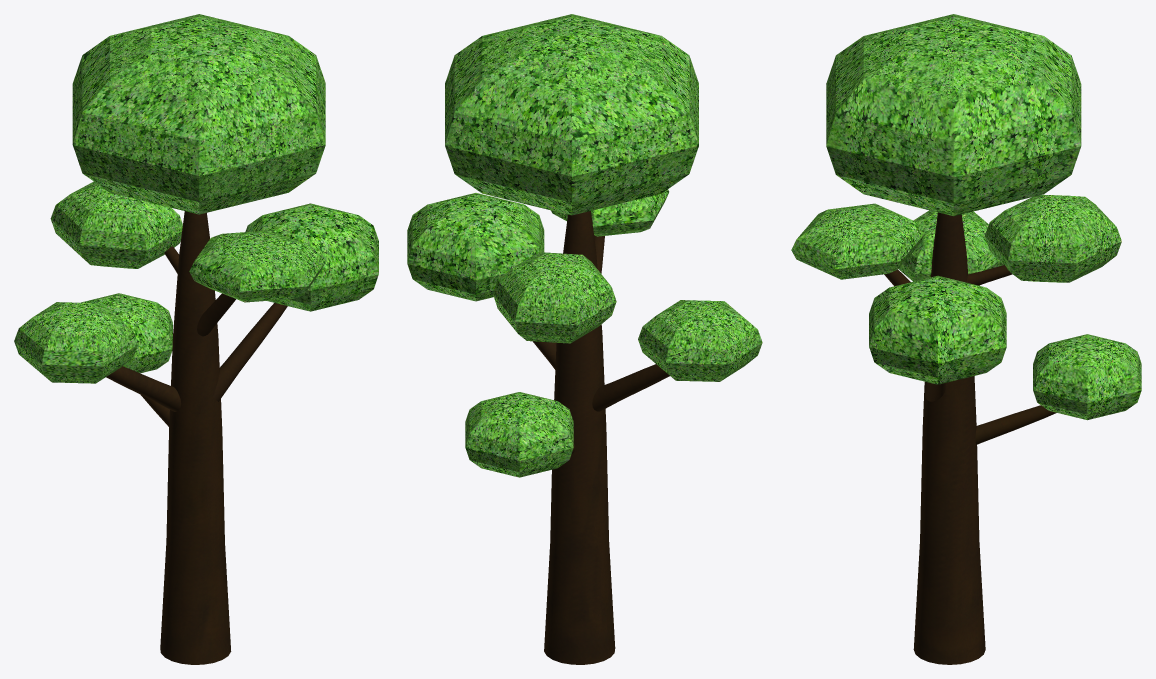
File: arbol.obj
3 views of the same model, side by side, from view 1: azimuth 30°, elevation 25°; view 2: azimuth 150°, elevation 25°; view 3: azimuth 270°, elevation 25° (orthographic).
Visible parts, largest first — view 1: arbol:pCylinder7; view 2: arbol:pCylinder7; view 3: arbol:pCylinder7.
Boxes of the visible parts, box(x1,y1,x2,y2) form: arbol:pCylinder7: box(14, 14, 378, 664); arbol:pCylinder7: box(407, 14, 762, 664); arbol:pCylinder7: box(791, 14, 1141, 664).
Size of the model in its own units: 1.39 by 2.36 by 1.21.
1 material, 1 textured.
